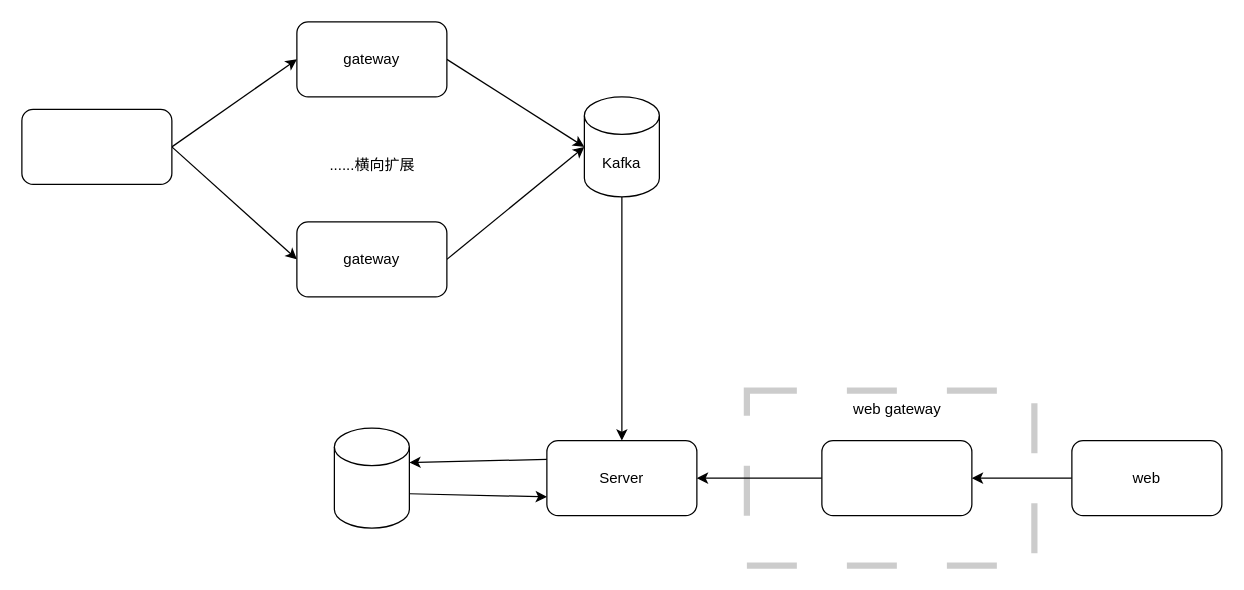
This 1244x590 diagram has some shape labels left out. The shapes that lost their labels are listed below. From the top down, each one's centre as x and y in pixels, then its label:
At [96,146]: "agent".
At [371,477]: "DB".
At [896,477]: "gateway...".
